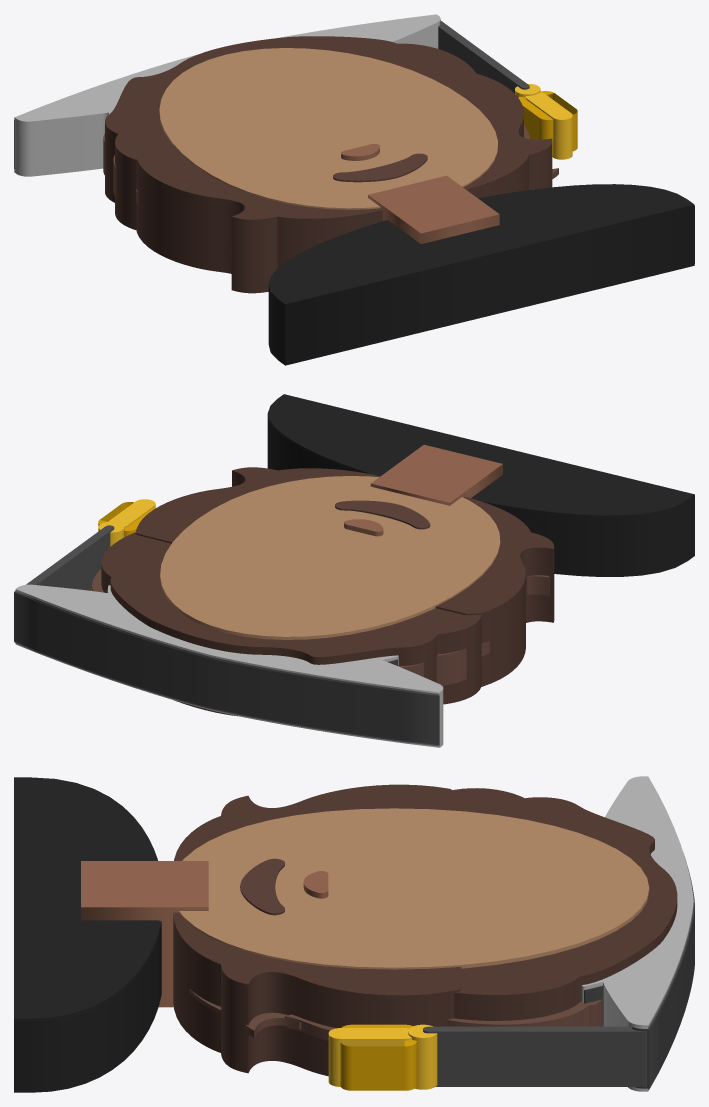
Rendered from emoji_u1f9d1_1f3fd_200d_1f393.glb.
The picture shows the model from 3 angles, top to bottom: view 1: azimuth 30°, elevation 25°; view 2: azimuth 150°, elevation 25°; view 3: azimuth 270°, elevation 25°; orthographic projection. The views are drawn at different scales.
Parts seen in each view (by area): view 1: emoji_u1f9d1_1f3fd_200d_1f393; view 2: emoji_u1f9d1_1f3fd_200d_1f393; view 3: emoji_u1f9d1_1f3fd_200d_1f393.
Boxes of the visible parts, x1,y1,x2,y2 form: emoji_u1f9d1_1f3fd_200d_1f393: (14, 14, 694, 365); emoji_u1f9d1_1f3fd_200d_1f393: (14, 394, 694, 747); emoji_u1f9d1_1f3fd_200d_1f393: (14, 776, 694, 1092).
Size of the model in its own units: 0.03 by 0.0056 by 0.0334.
